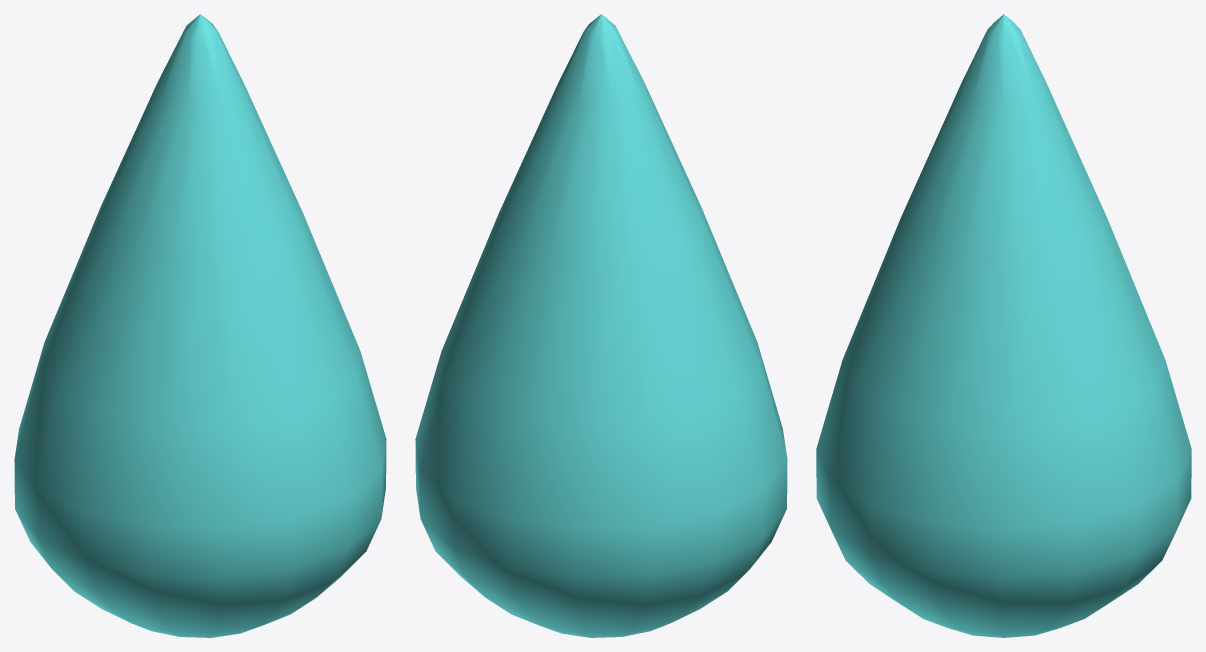
Rendered from water.glb.
3 renders of one model, left to right at view 1: azimuth 30°, elevation 25°; view 2: azimuth 150°, elevation 25°; view 3: azimuth 270°, elevation 25°, orthographic.
Parts seen in each view (by area): view 1: Cone; view 2: Cone; view 3: Cone.
Part boxes in pixels (<box>): Cone: <box>14,14,386,637</box>; Cone: <box>415,14,787,637</box>; Cone: <box>816,14,1191,637</box>.
Size of the model in its own units: 0.5786 by 1.03 by 0.5786.
